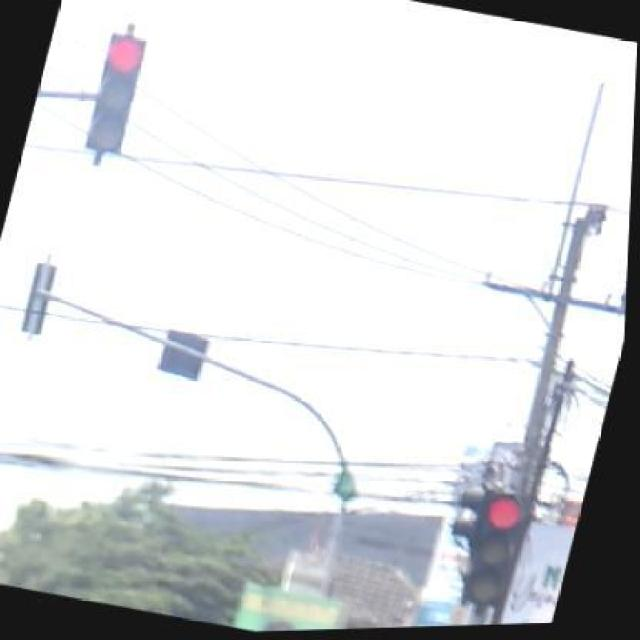Traffic Light -Red-: (452, 483, 542, 620), (74, 29, 148, 165)
